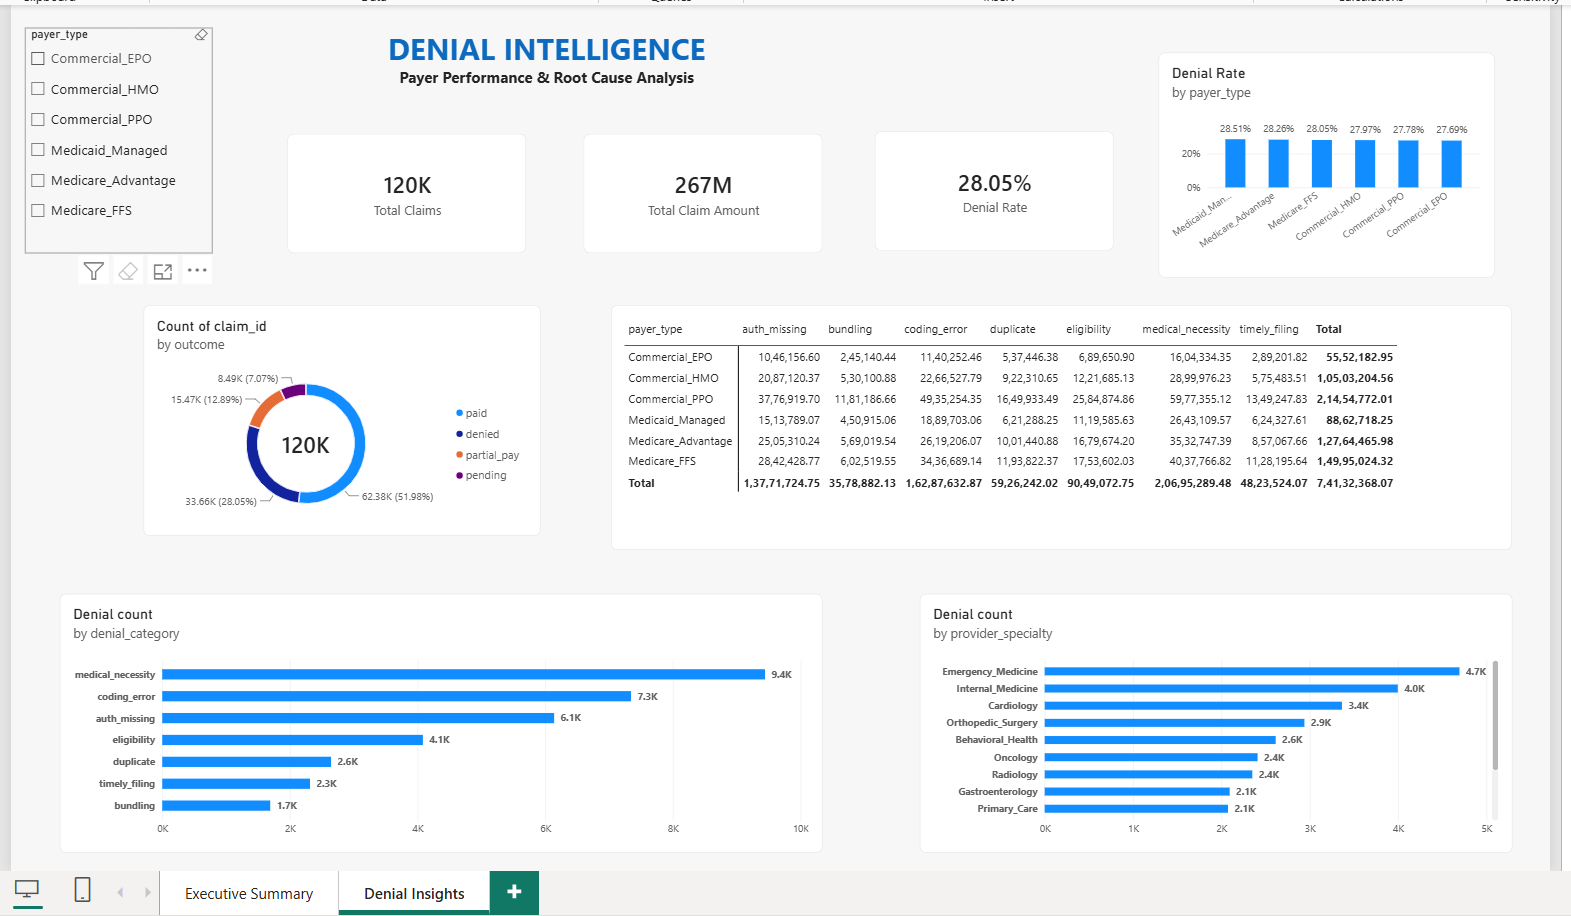

The dashboard page shown, as its layout file describes it:
{"tool":"powerbi","page":{"name":"Denial Insights","canvas":[1920,1080],"ordinal":1},"visuals":[{"type":"cardVisual","fields":{"Data":["Measurs1.Total Claims"]},"box":[345.2,160,298.7,149.3],"z":0},{"type":"cardVisual","fields":{"Data":["Measurs1.Total Claim Amount"]},"box":[713.7,160,298.7,149.3],"z":1000},{"type":"cardVisual","fields":{"Data":["Measurs1.Denial Rate"]},"box":[1076.9,158.2,298.7,149.3],"z":3000},{"type":"donutChart","fields":{"Category":["claims_main.outcome"],"Y":["CountNonNull(claims_main.claim_id)"]},"box":[164.5,374.4,495.6,287.8],"z":4000},{"type":"clusteredBarChart","fields":{"Category":["claims_main.denial_category"],"Y":["Measurs1.Denial count"]},"box":[61.1,733.5,951,323.6],"z":6000},{"type":"textbox","box":[163.6,28.8,1008.5,95.3],"z":6001},{"type":"columnChart","fields":{"Category":["claims_main.payer_type"],"Y":["Measurs1.Denial Rate"]},"box":[1431,59.3,418.9,280.4],"z":6002},{"type":"clusteredBarChart","fields":{"Category":["claims_main.provider_specialty"],"Y":["Measurs1.Denial count"]},"box":[1132.6,733.5,738.9,323.6],"z":6003},{"type":"pivotTable","fields":{"Columns":["claims_main.denial_category"],"Rows":["claims_main.payer_type"],"Values":["Measurs1.Total Denied Amount"]},"box":[747.9,373.9,1123.6,305.6],"z":6004},{"type":"slicer","fields":{"Values":["claims_main.payer_type"]},"box":[17.3,28.1,235.9,281.3],"z":6005}]}

Visuals, with their boxes on the page's 1920x1080 design canvas (x1, y1, x2, y2). These are canvas units, not pixel positions in the 1571x916 screenshot, which may show the page scaled, cropped or inside an application window:
cardVisual - Measurs1.Total Claims: BBox(345, 160, 644, 309)
cardVisual - Measurs1.Total Claim Amount: BBox(714, 160, 1012, 309)
cardVisual - Measurs1.Denial Rate: BBox(1077, 158, 1376, 308)
donutChart - claims_main.outcome x CountNonNull(claims_main.claim_id): BBox(164, 374, 660, 662)
clusteredBarChart - claims_main.denial_category x Measurs1.Denial count: BBox(61, 734, 1012, 1057)
textbox: BBox(164, 29, 1172, 124)
columnChart - claims_main.payer_type x Measurs1.Denial Rate: BBox(1431, 59, 1850, 340)
clusteredBarChart - claims_main.provider_specialty x Measurs1.Denial count: BBox(1133, 734, 1872, 1057)
pivotTable - claims_main.denial_category x claims_main.payer_type: BBox(748, 374, 1872, 680)
slicer - claims_main.payer_type: BBox(17, 28, 253, 309)
